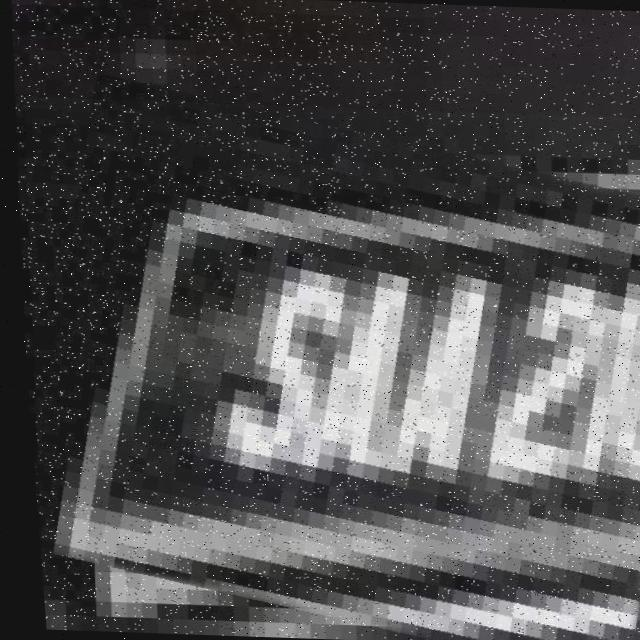LicensePlate: (6, 96, 640, 640)
